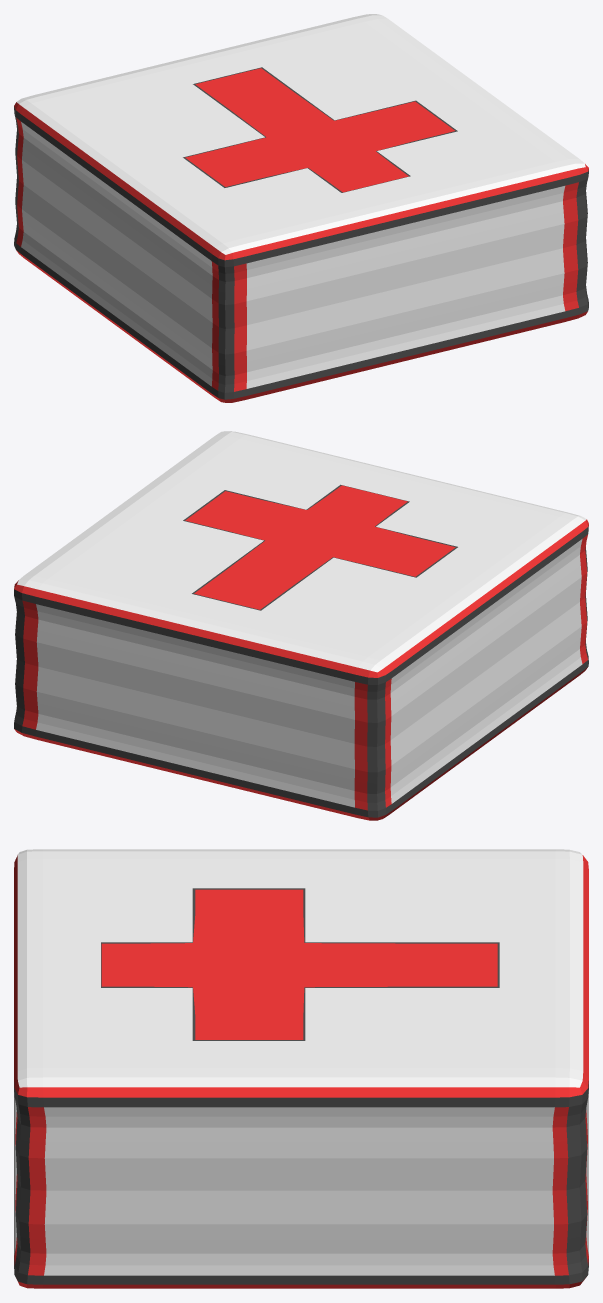
The model's file is Med.fbx.
3 renders of one model, top to bottom at view 1: azimuth 30°, elevation 25°; view 2: azimuth 150°, elevation 25°; view 3: azimuth 270°, elevation 25°, orthographic. The views are drawn at different scales.
Visible parts, largest first — view 1: Box; view 2: Box; view 3: Box.
Boxes of the visible parts, x1,y1,x2,y2 form: Box: [14, 14, 588, 402]; Box: [14, 431, 588, 820]; Box: [14, 849, 588, 1288].
Bounding box in the file's own units: 722 × 289 × 722.
